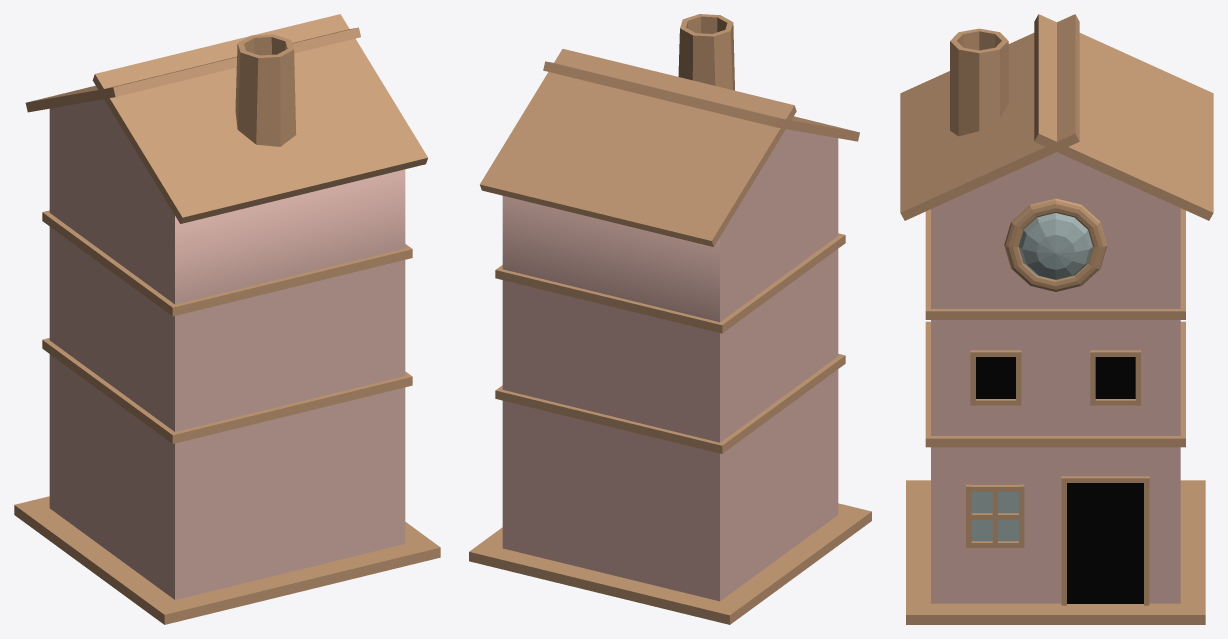
Rendered from house02.fbx.
3 renders of one model, left to right at view 1: azimuth 30°, elevation 25°; view 2: azimuth 150°, elevation 25°; view 3: azimuth 270°, elevation 25°, orthographic. The views are drawn at different scales.
Visible parts, largest first — view 1: pCube3, fangding, pCube20, pCube13, pCube1, pCube30, pCube2; view 2: pCube3, fangding, pCube20, pCube13, pCube1, pCube30, pCube2; view 3: fangding, pCube13, pCube3, pCube20, pCube1, pPlane3, pCube2, pCube30, pSphere1, pTorus1, pPlane2 (×2), pPlane1 (+3 smaller).
Part boxes in pixels (x1,y1,x2,y2): pCube3: [49, 354, 405, 599]; fangding: [25, 14, 427, 223]; pCube20: [49, 227, 405, 431]; pCube13: [49, 99, 405, 304]; pCube1: [14, 496, 440, 624]; pCube30: [42, 210, 412, 316]; pCube2: [42, 338, 412, 443]; pCube3: [502, 369, 838, 601]; fangding: [480, 14, 859, 246]; pCube20: [502, 249, 838, 442]; pCube13: [502, 129, 838, 322]; pCube1: [469, 503, 871, 624]; pCube30: [495, 233, 845, 333]; pCube2: [495, 354, 845, 453]; fangding: [900, 14, 1213, 220]; pCube13: [931, 152, 1180, 308]; pCube3: [931, 447, 1180, 603]; pCube20: [931, 320, 1180, 435]; pCube1: [906, 480, 1205, 624]; pPlane3: [1067, 483, 1143, 603]; pCube2: [925, 321, 1185, 447]; pCube30: [925, 208, 1185, 319]; pSphere1: [1018, 213, 1092, 280]; pTorus1: [1004, 198, 1107, 291]; pPlane2 (×2): [976, 357, 1135, 398]; pPlane1: [971, 491, 1018, 541].
Bounding box in the file's own units: 22.09 × 39.01 × 21.43.
